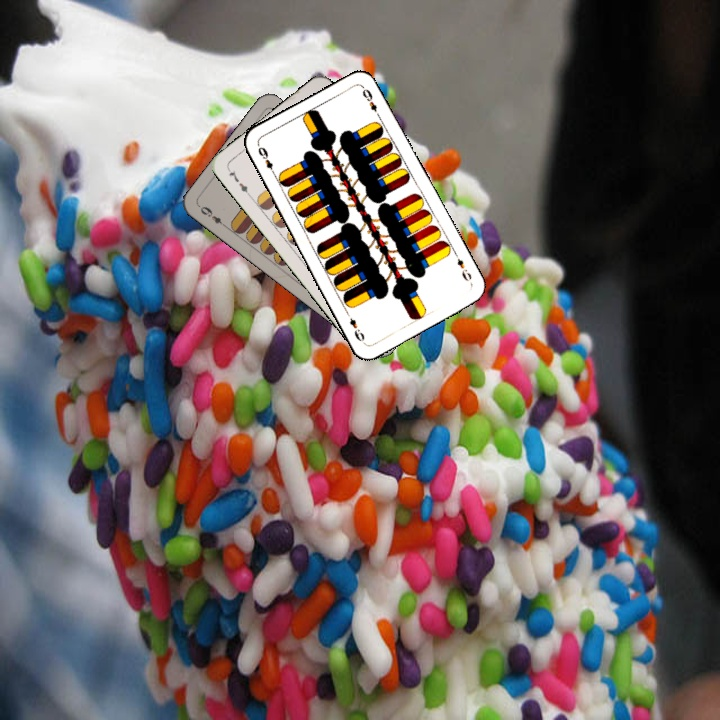E7: (223, 165, 253, 199)
E9: (195, 202, 230, 231), (254, 141, 279, 179), (453, 254, 474, 284)
